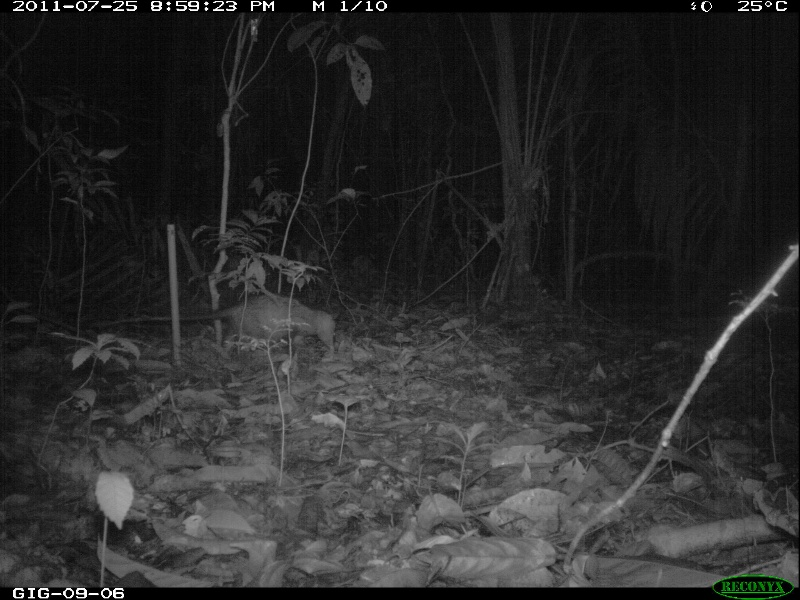opossum: (123, 290, 340, 348)
